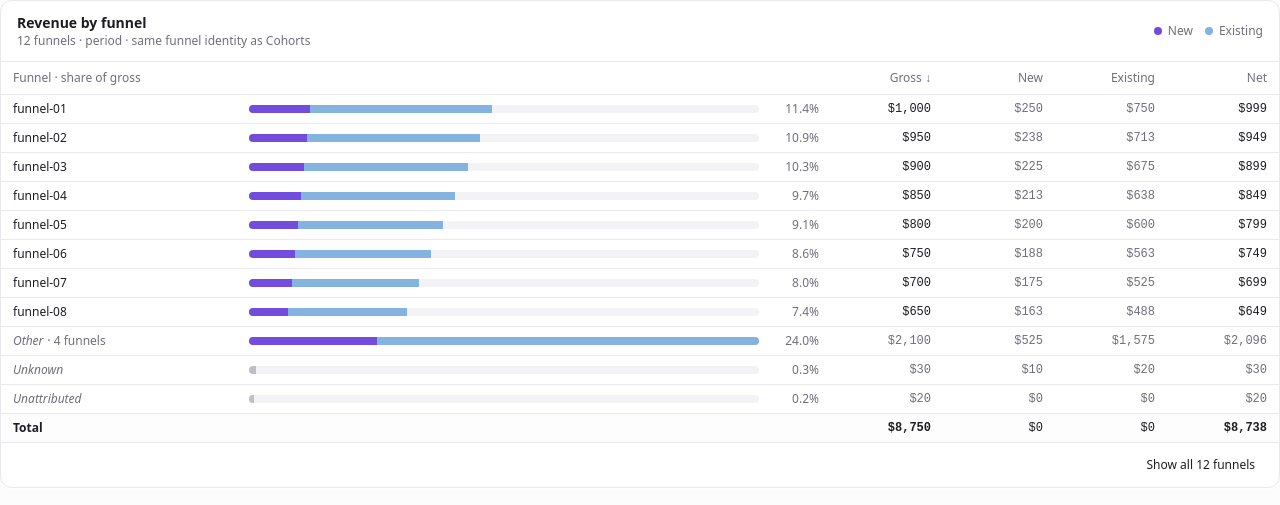
Scenario: RevenueByFunnelCard › re-sorts when a column header is clicked
Click the column heading "Gross ↓": [887, 78] box [831,62,943,94]
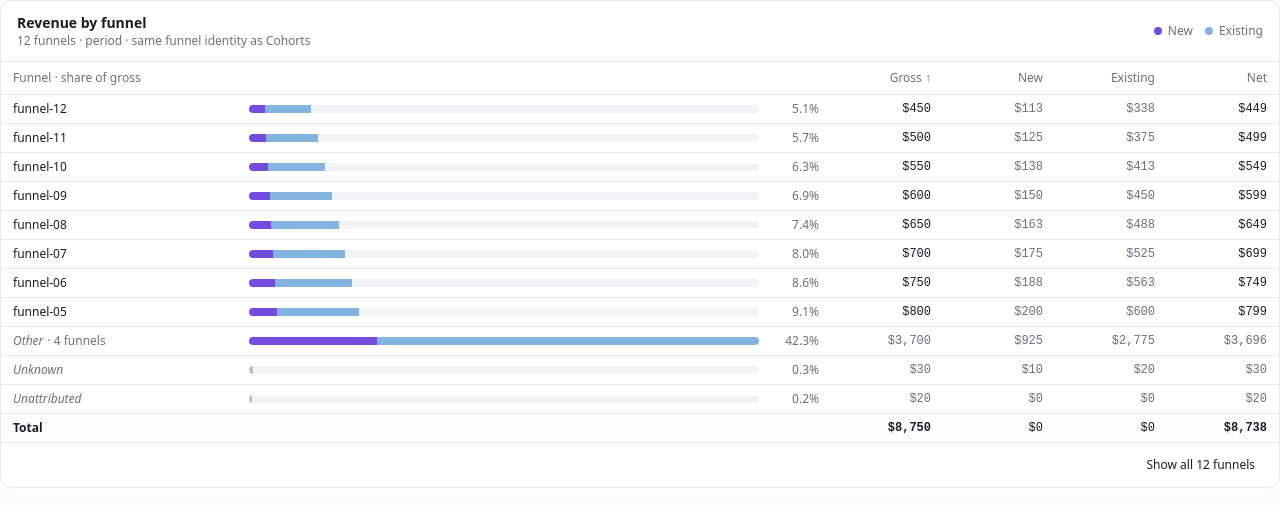
Expected: the text "funnel-12" is shown, [13,100,67,116]
